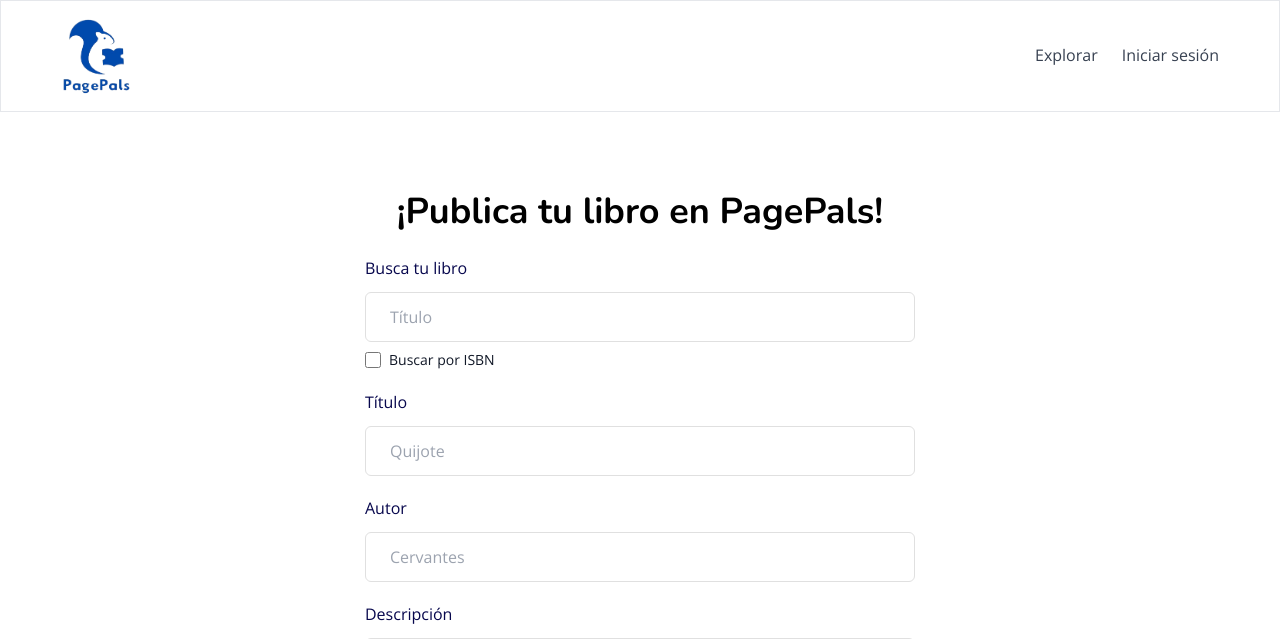
Test: PublicationForm › searches books and updates state
Type "Test Book" into the field with placeholder "Título" at (640, 317), box [365,292,915,342]
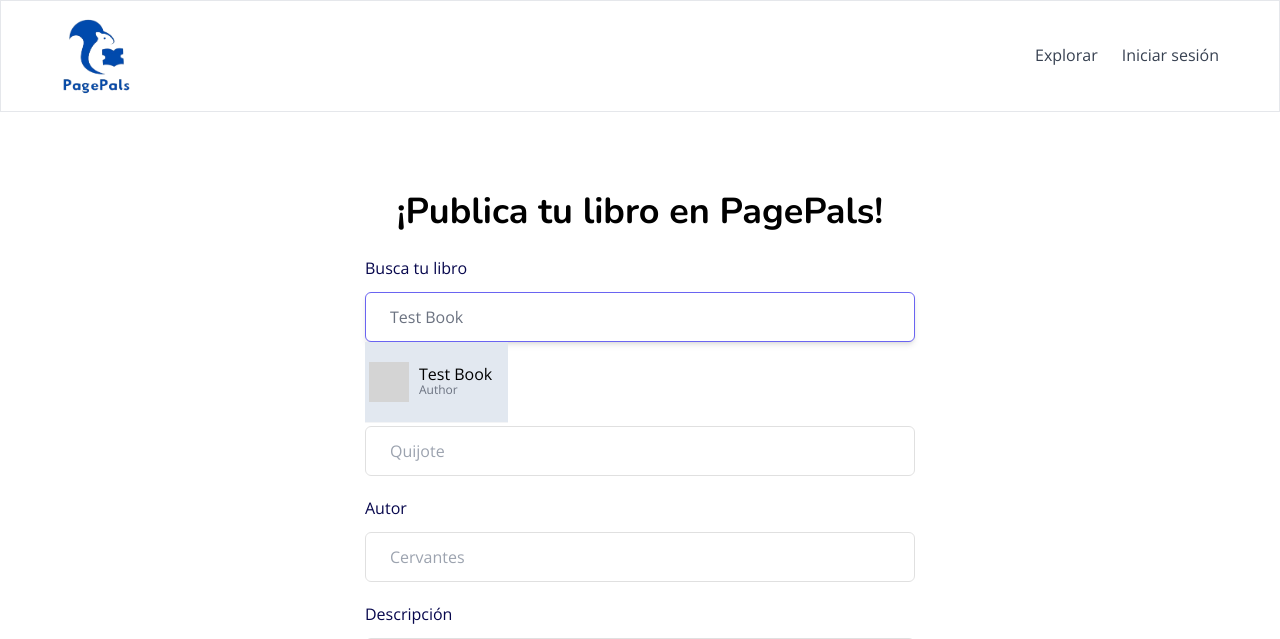
expect the text "Test Book Author" is shown: met, box [407,362,492,398]
